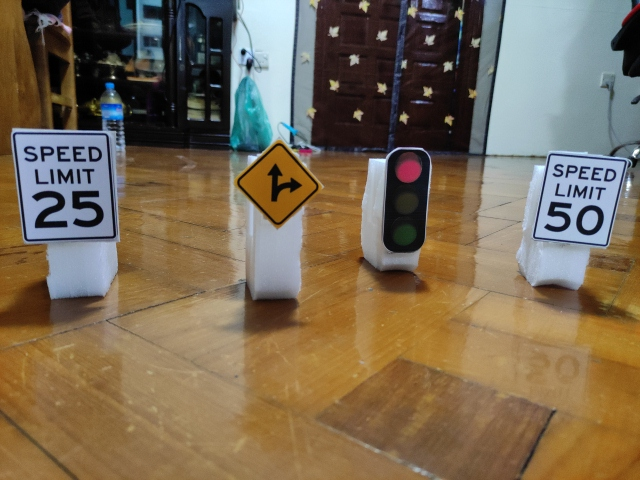Red Traffic Light: (385, 148, 429, 251)
Speed Limit 25: (12, 128, 120, 242)
Speed Limit 50: (534, 151, 627, 247)
Straight Or Right Sign: (234, 142, 326, 226)
